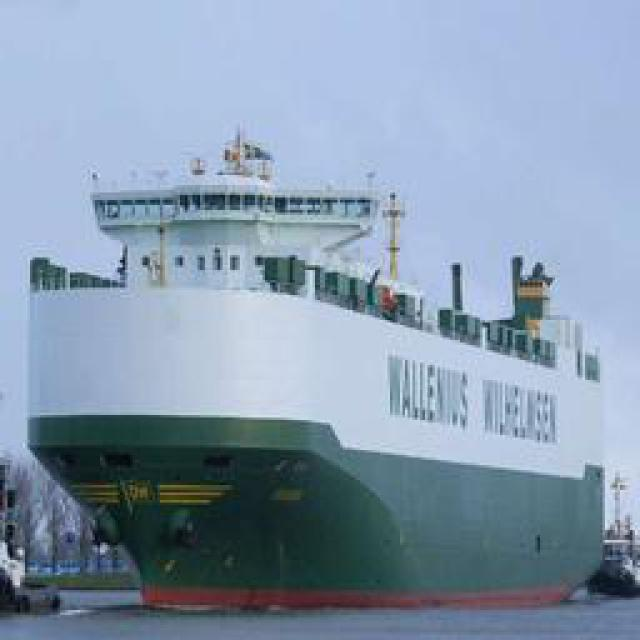Ship: (30, 116, 611, 620)
